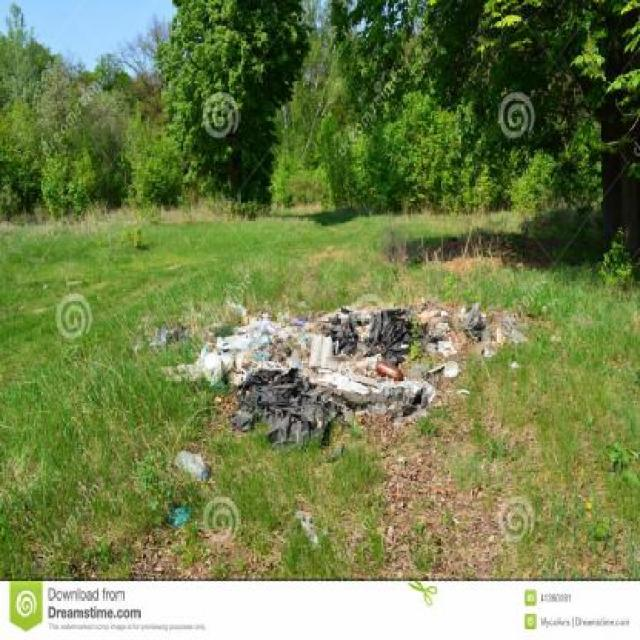garbage: (202, 317, 435, 442), (435, 306, 524, 344), (171, 446, 217, 481), (292, 508, 324, 549), (148, 322, 199, 346), (166, 506, 192, 528)
